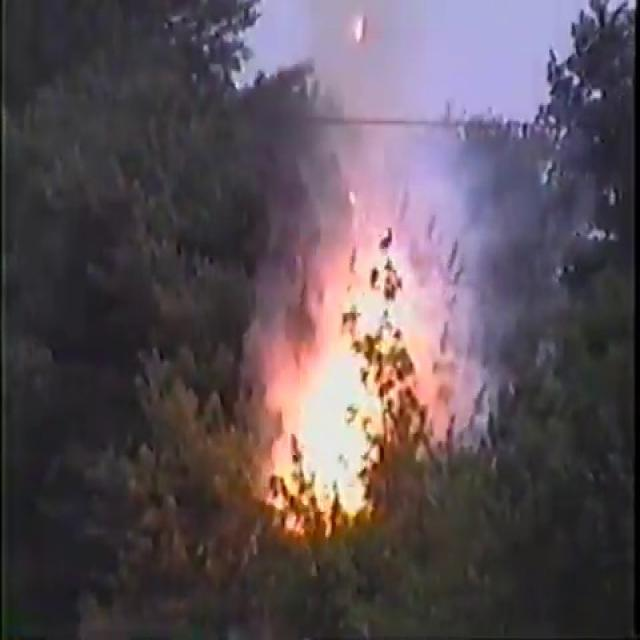Fire: (255, 296, 398, 542)
Smoke: (251, 0, 523, 406)
